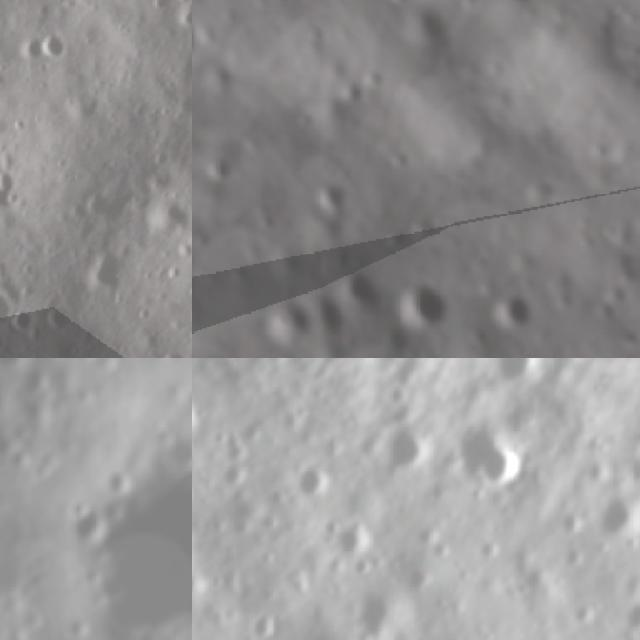crater: (90, 470, 192, 640), (442, 415, 539, 510), (381, 266, 465, 349), (367, 416, 442, 493), (254, 286, 332, 358), (192, 502, 232, 640), (258, 608, 404, 640), (320, 508, 390, 574), (297, 168, 364, 236), (341, 581, 417, 640), (583, 480, 640, 557), (331, 260, 396, 324), (485, 280, 550, 343), (280, 454, 341, 514), (214, 487, 274, 547), (479, 358, 558, 402), (192, 144, 245, 198), (375, 375, 424, 423), (32, 24, 74, 73), (66, 504, 109, 550), (606, 585, 640, 640), (235, 603, 283, 640), (0, 541, 26, 607), (192, 0, 215, 74), (159, 423, 192, 474), (0, 286, 27, 341), (19, 358, 56, 398), (192, 232, 211, 309), (4, 301, 42, 338), (93, 571, 129, 609), (192, 384, 211, 453), (100, 461, 136, 496), (154, 335, 192, 358), (20, 606, 48, 632), (627, 199, 640, 252), (176, 0, 192, 40), (192, 472, 205, 516), (0, 358, 28, 368), (171, 631, 192, 640)
